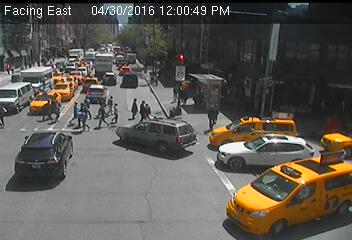neg: (282, 176, 311, 215), (236, 73, 259, 103), (260, 86, 280, 114), (163, 103, 183, 130), (247, 120, 266, 146), (171, 31, 190, 56), (190, 76, 208, 100), (218, 76, 233, 96), (120, 65, 134, 83), (18, 33, 32, 51), (39, 32, 51, 49), (233, 115, 245, 131), (63, 69, 75, 85), (61, 30, 73, 46), (152, 106, 163, 121), (90, 82, 101, 97), (77, 68, 88, 81), (148, 132, 158, 146), (208, 81, 218, 94), (93, 65, 102, 77), (77, 84, 86, 96)
pos: (200, 101, 225, 135), (72, 102, 96, 133), (132, 96, 154, 125), (92, 104, 113, 131), (37, 98, 56, 123), (65, 99, 84, 124), (125, 96, 144, 121), (102, 93, 120, 117), (107, 100, 125, 124), (51, 101, 67, 122), (169, 85, 182, 101), (1, 61, 12, 76), (7, 63, 17, 76)
